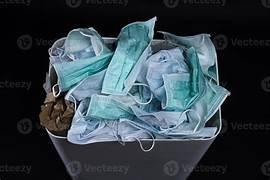Mask: (166, 67, 229, 134), (102, 18, 155, 94), (52, 28, 112, 95), (67, 98, 150, 143), (169, 82, 229, 134), (162, 47, 205, 110), (161, 32, 216, 79), (52, 53, 112, 95), (86, 83, 152, 119), (146, 48, 188, 100), (130, 106, 185, 132), (64, 28, 109, 59), (65, 69, 105, 102), (86, 94, 133, 119), (162, 73, 192, 110), (48, 38, 70, 63)
